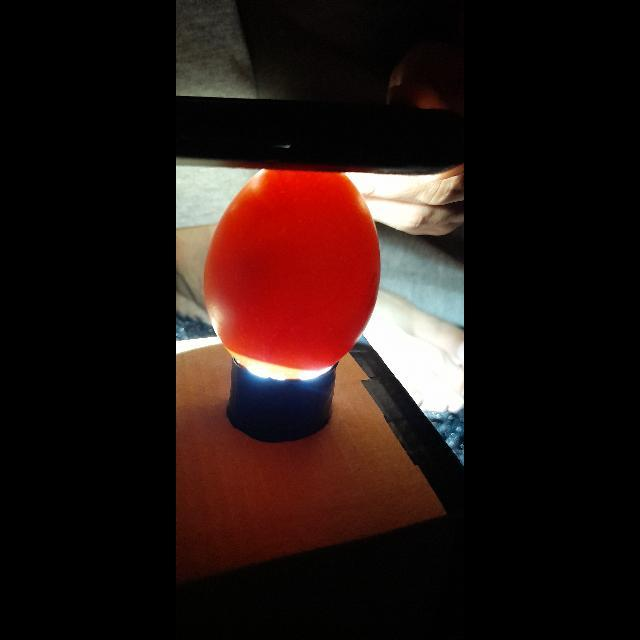Fertile: (207, 164, 379, 366)
